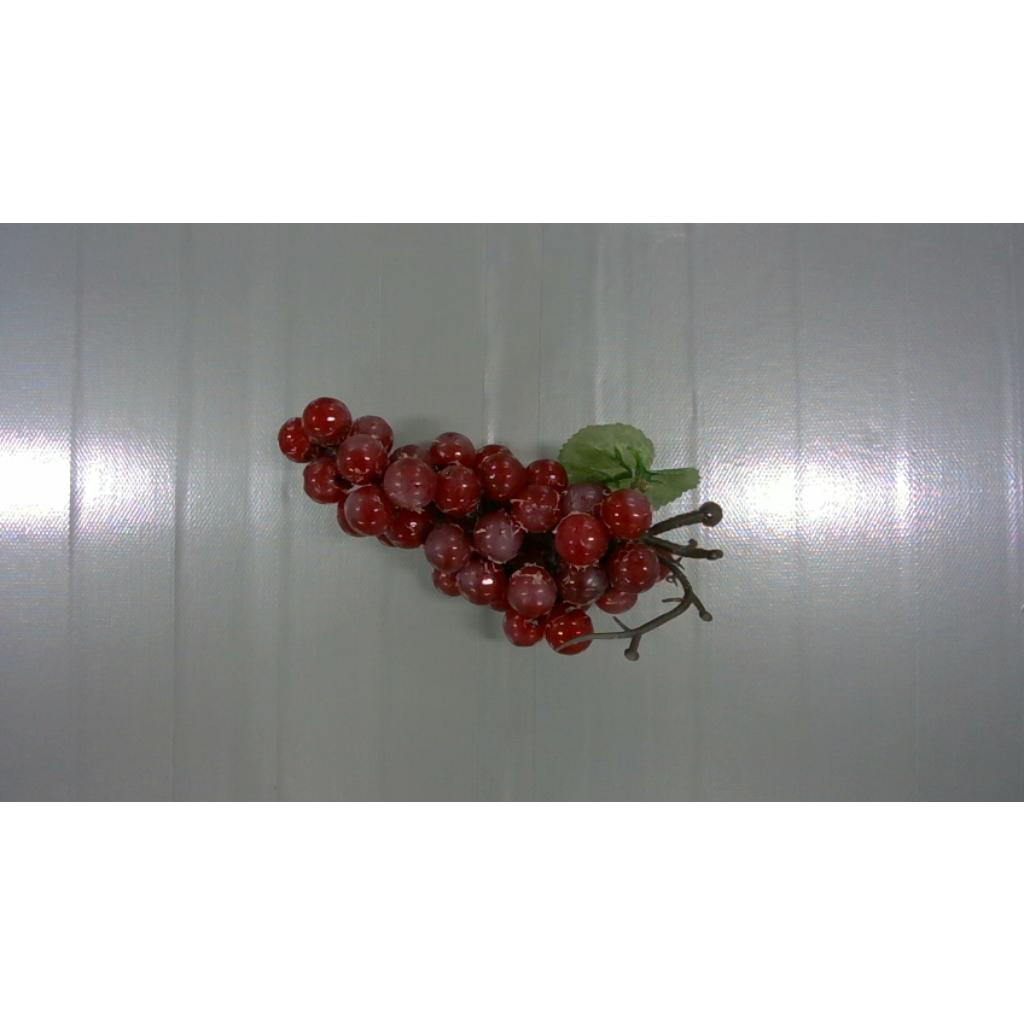grape: (280, 398, 722, 659)
